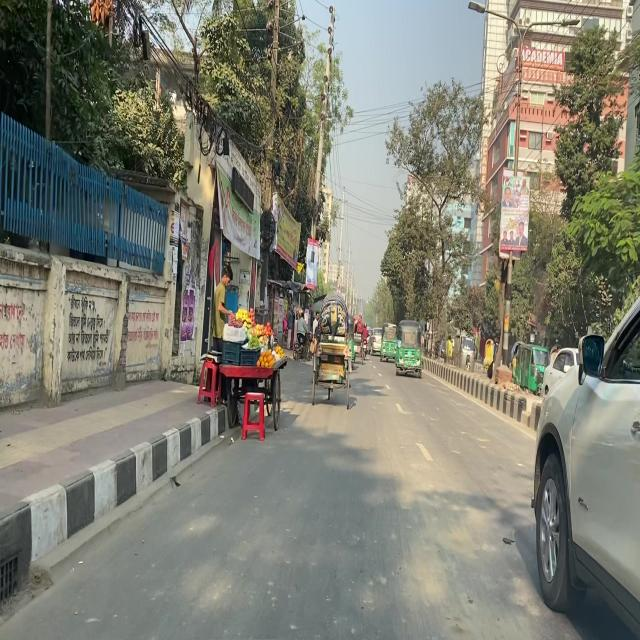car: (530, 225, 640, 640), (542, 348, 635, 449)
motorbike: (359, 321, 371, 362)
